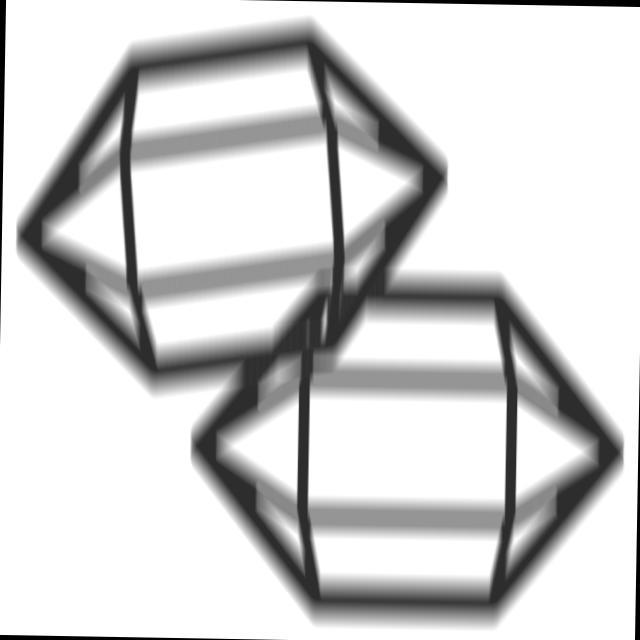crystal: (7, 1, 462, 413), (185, 258, 637, 640)
